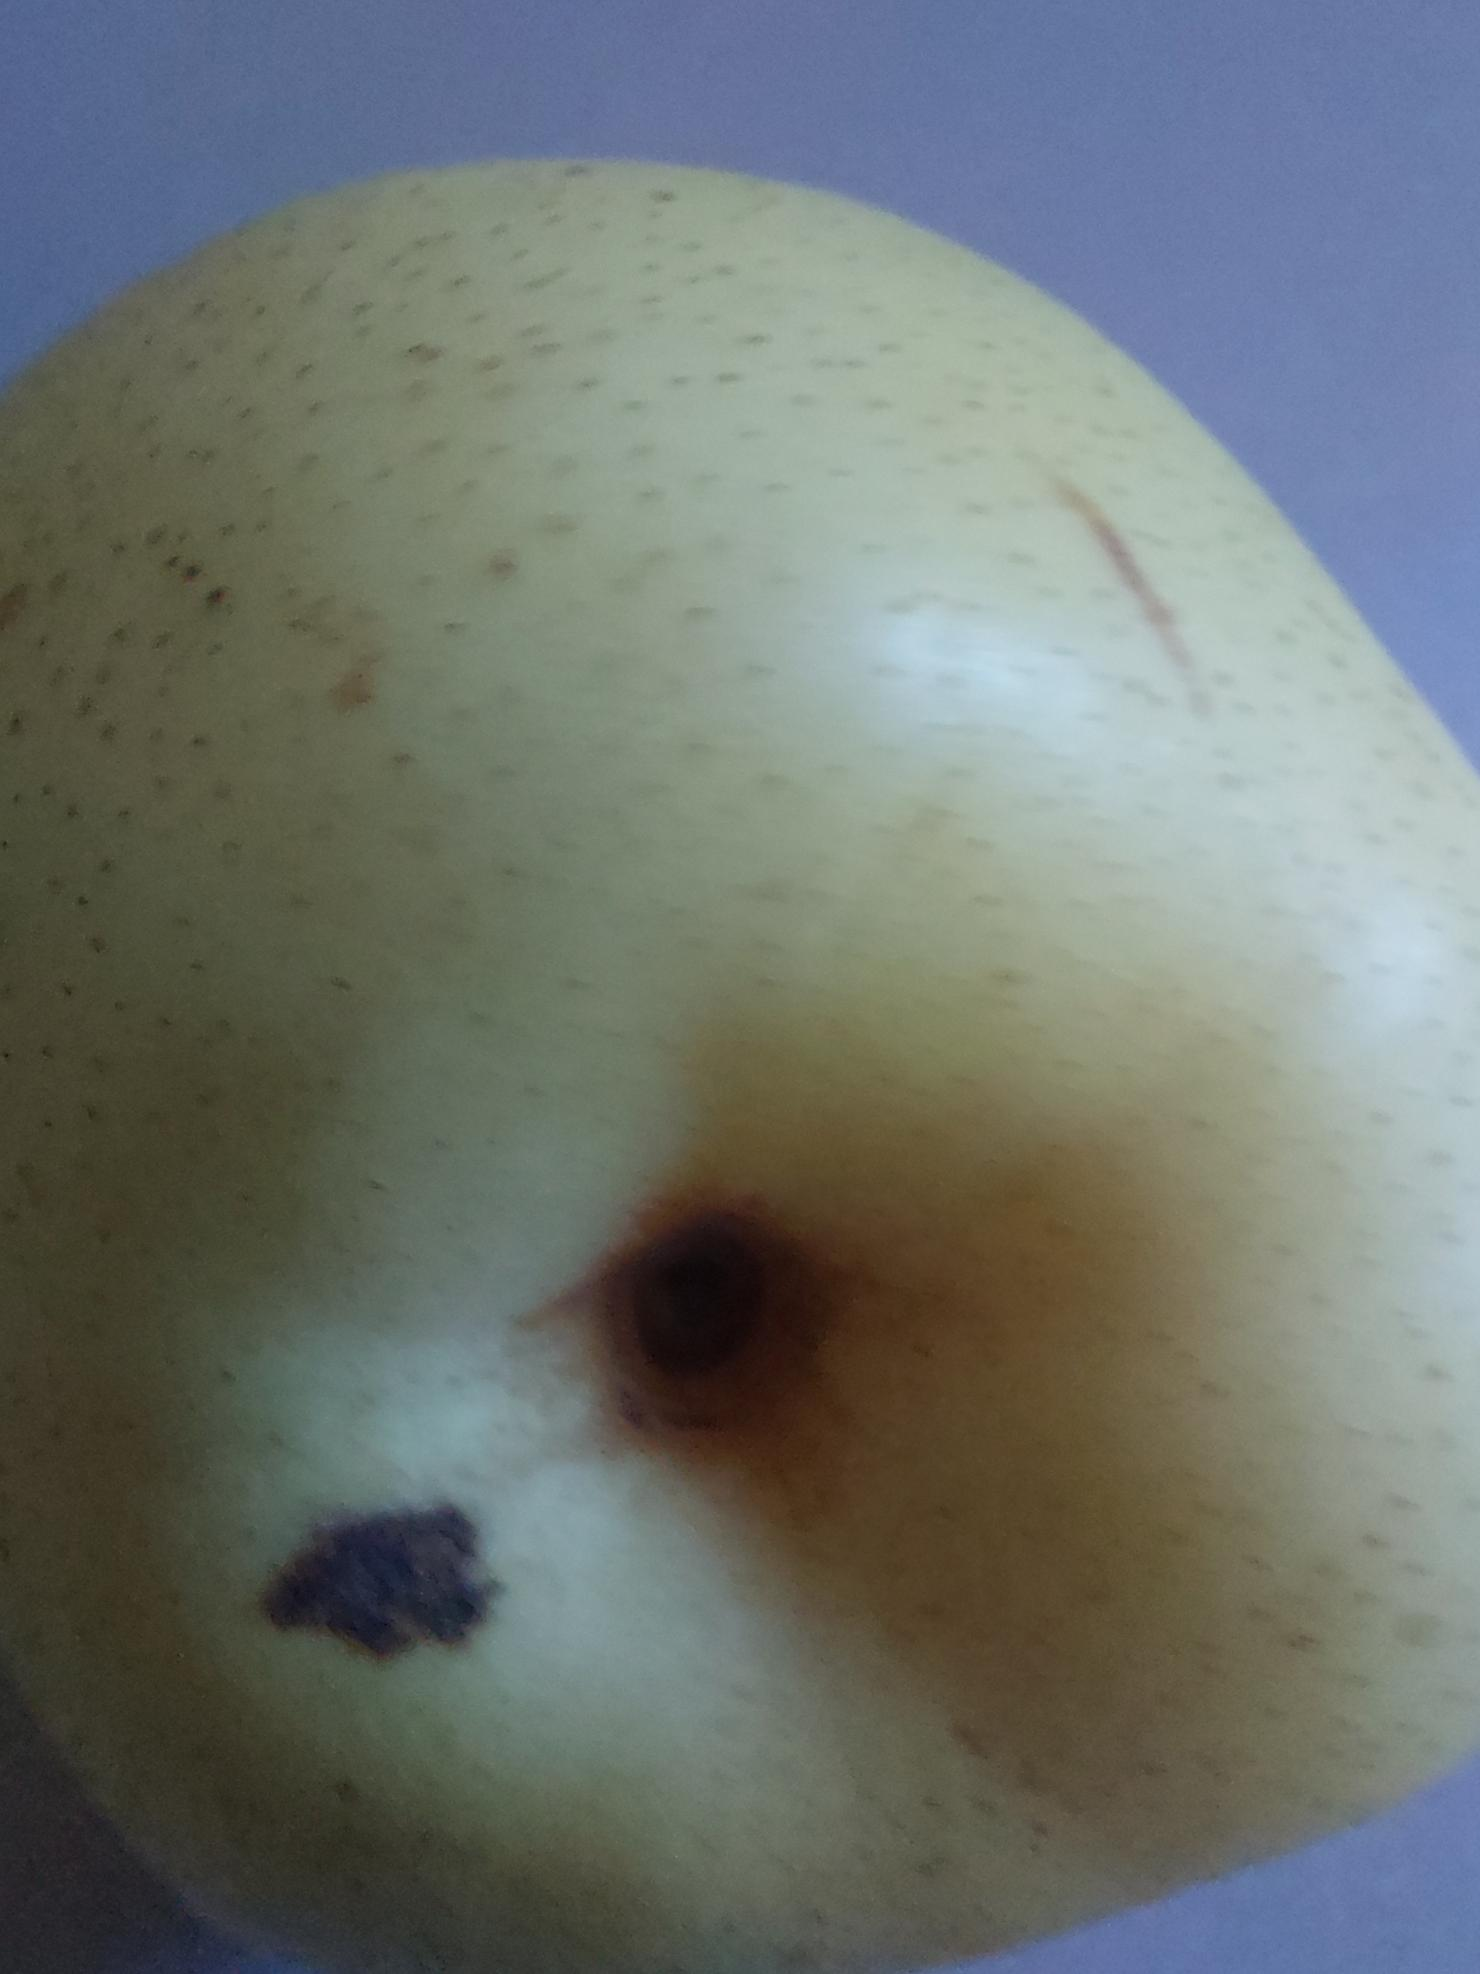Good Pear: (0, 113, 1480, 1974)
